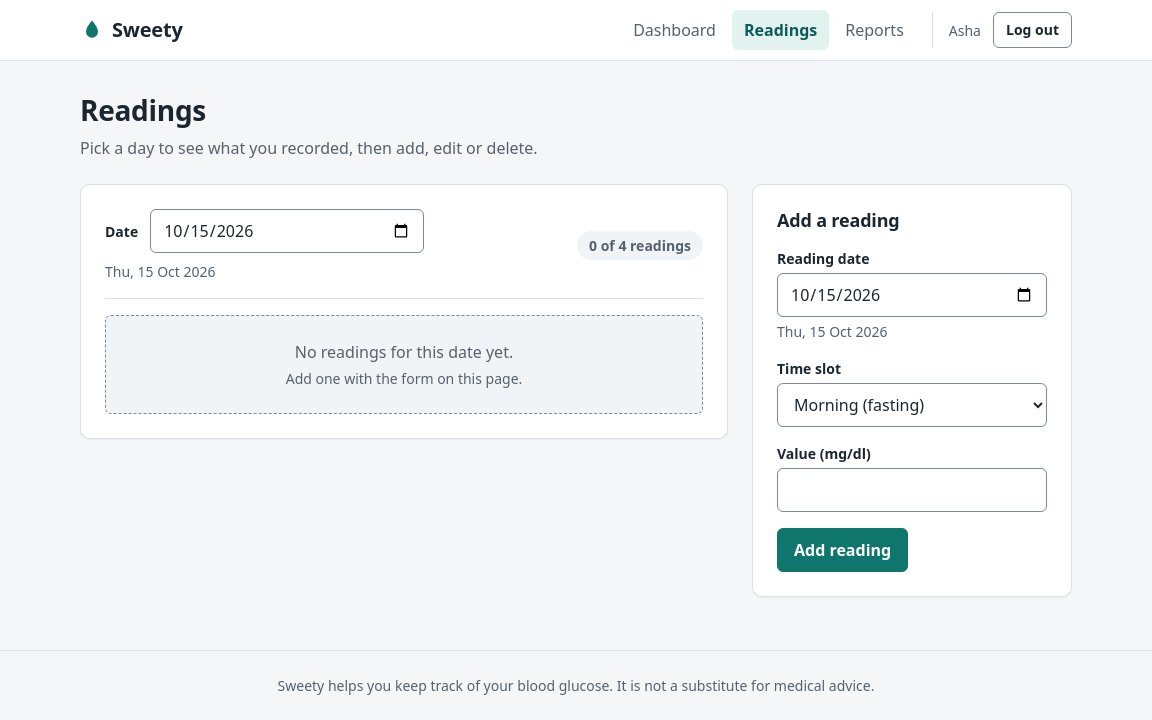
Add a reading form › shows the server's validation message for a 400
Expected: the text "0 of 4 readings" is shown, x1=577 y1=231 x2=703 y2=260
Type "120" into the field labelled "Value (mg/dl)" at {"x": 912, "y": 490}, box x1=777 y1=468 x2=1047 y2=512
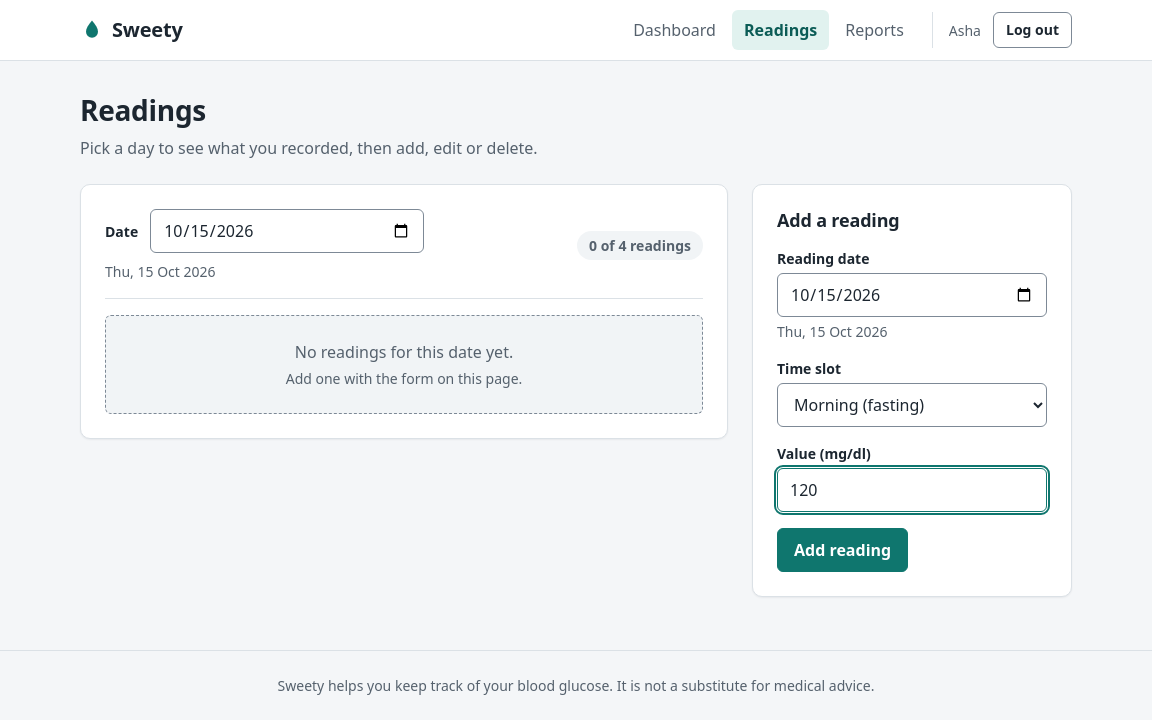
Click the button "Add reading" at {"x": 843, "y": 550}, box x1=777 y1=528 x2=908 y2=572
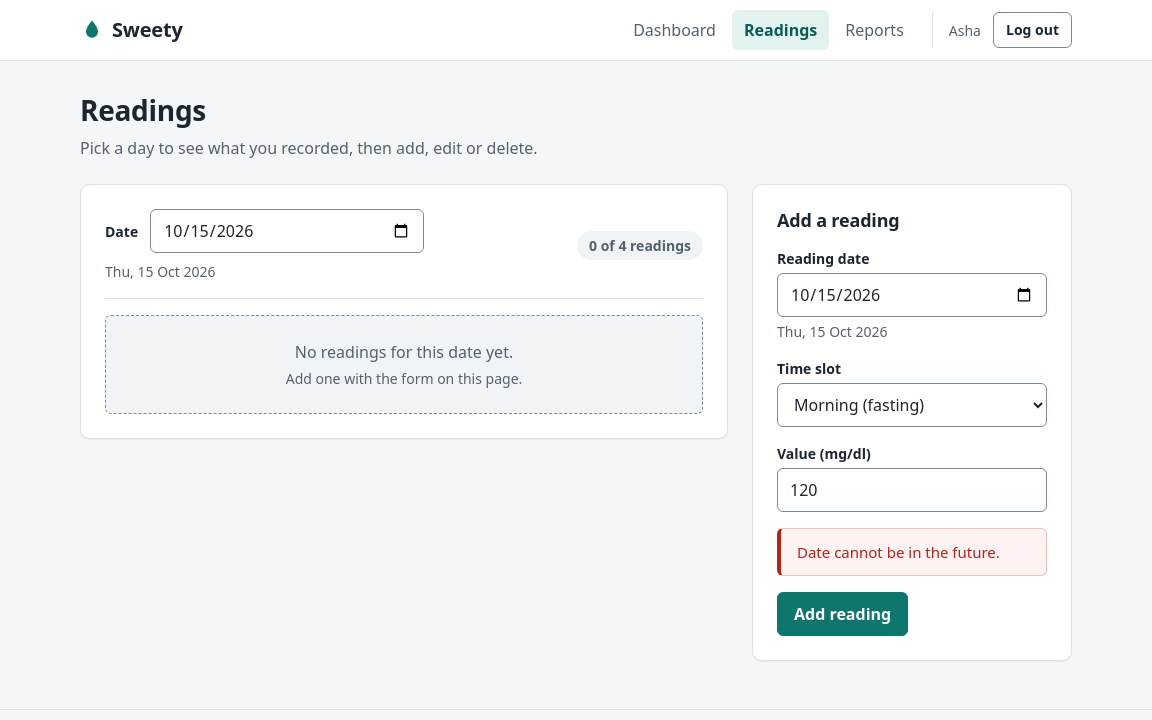
Expected: the button "Add reading" is enabled, x1=777 y1=592 x2=908 y2=636
Result: the message reads "Date cannot be in the future." at x1=797 y1=542 x2=1000 y2=562
Editing a field hides the server's message.
Type "1" into the field labelled "Value (mg/dl)" at {"x": 912, "y": 490}, box x1=777 y1=468 x2=1047 y2=512
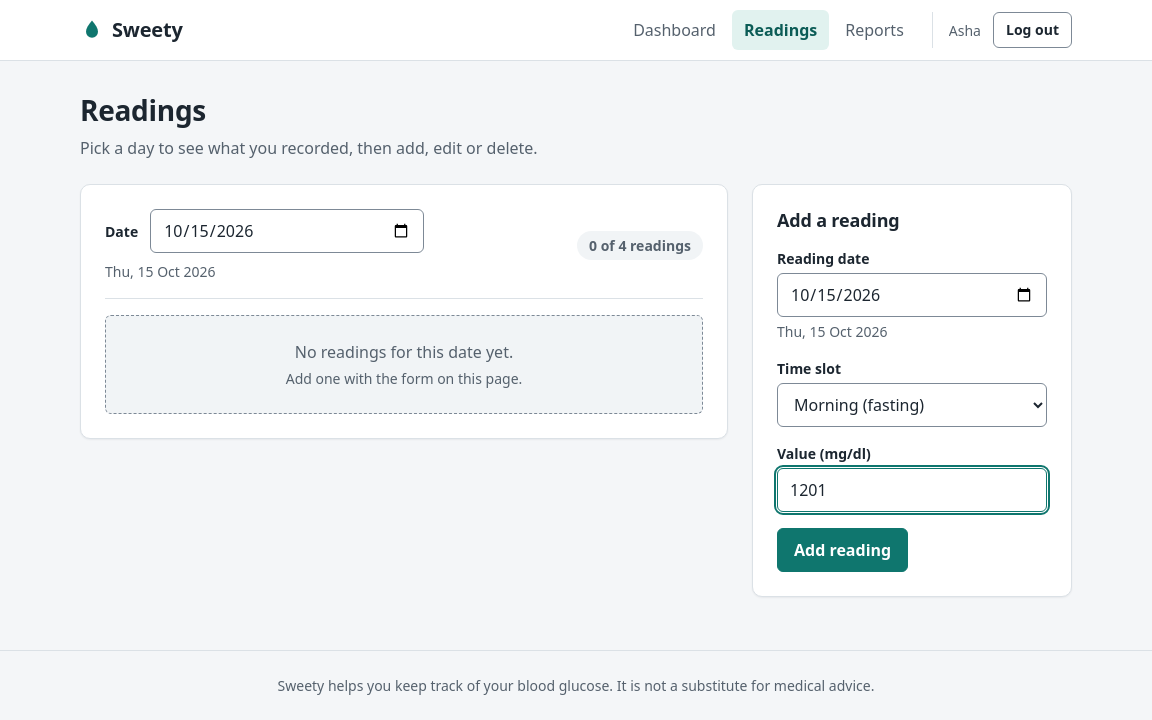
Result: the message "Date cannot be in the future." is gone
